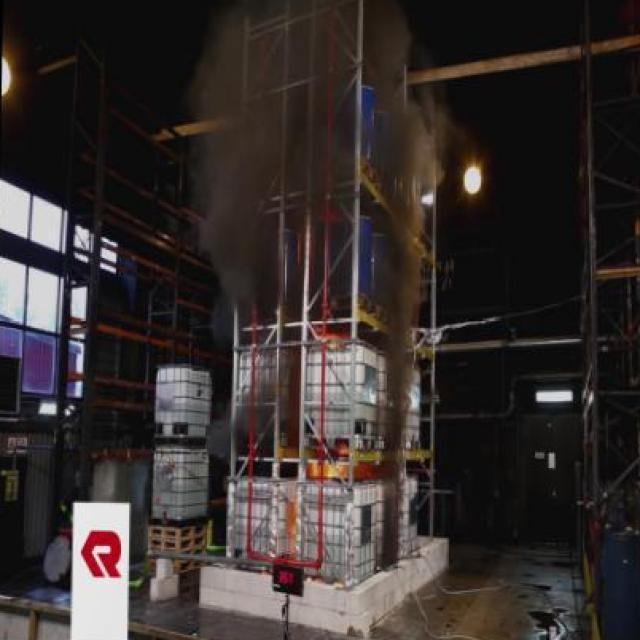fire: (359, 0, 450, 482), (178, 0, 291, 291)
